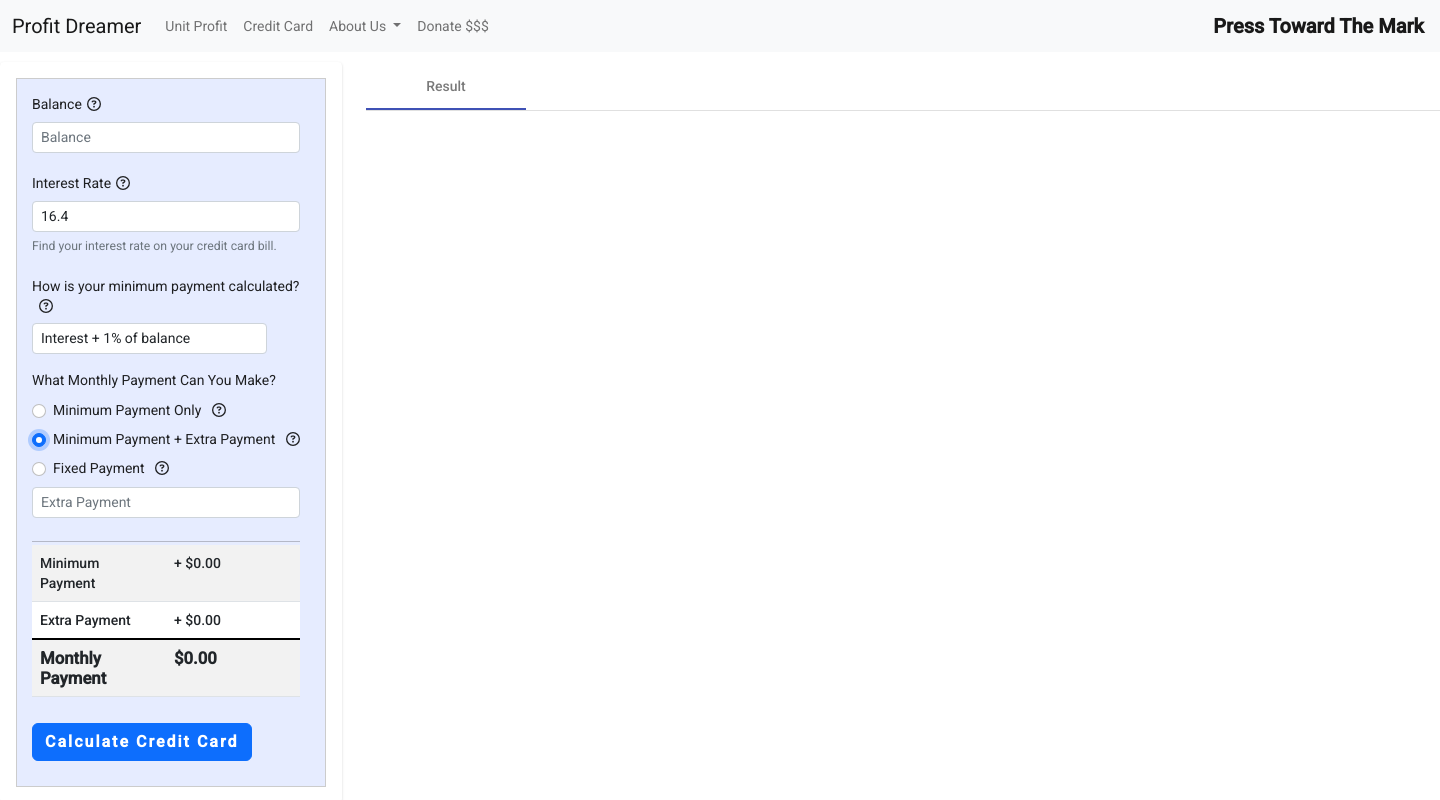
Test: credit-card-validation.cy.ts › credit card balance › blur error should be visible
Step 1. Focus the field with id "balance" → (166, 138), box [32,122,300,153]
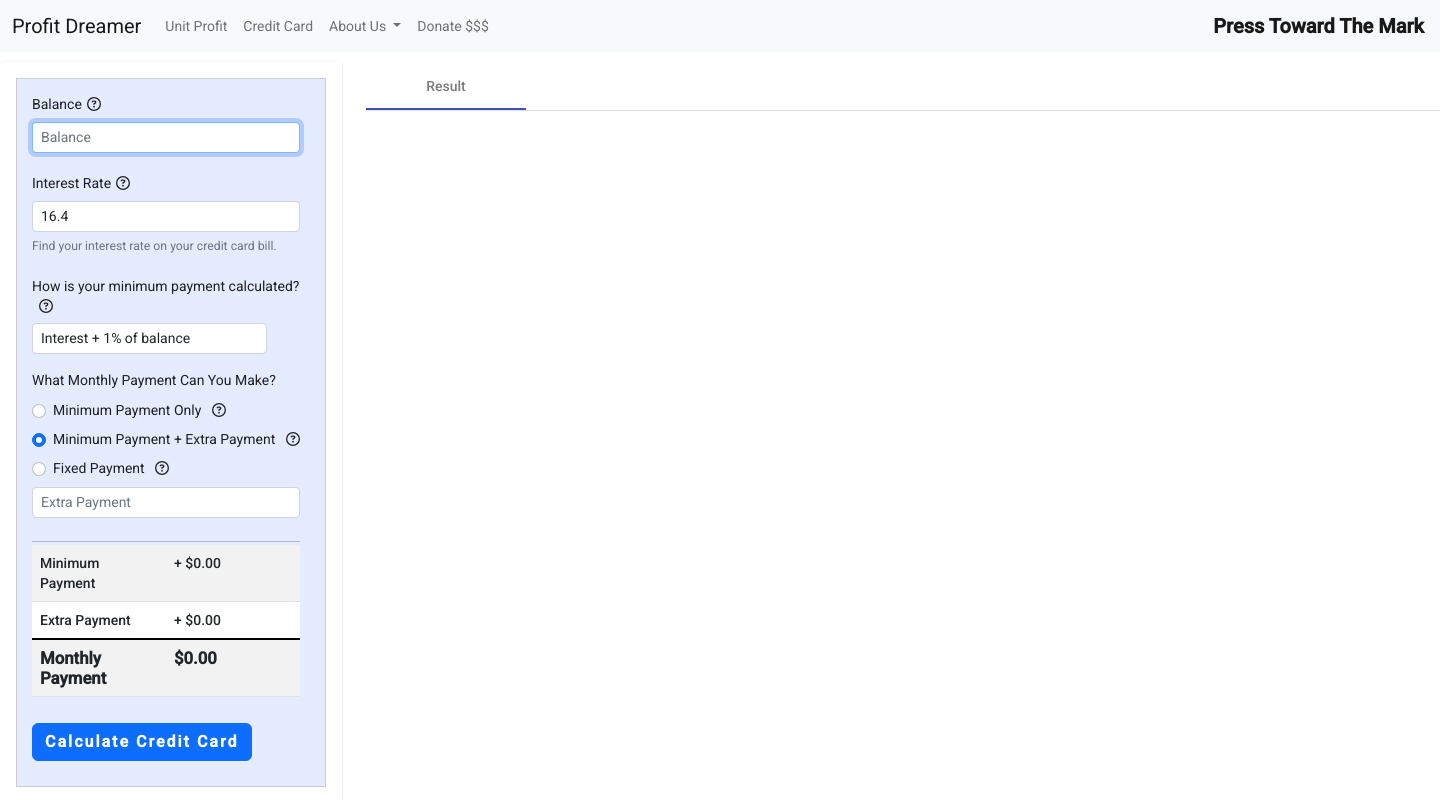
Step 2. Leave the field with id "balance", box [32,122,300,153]
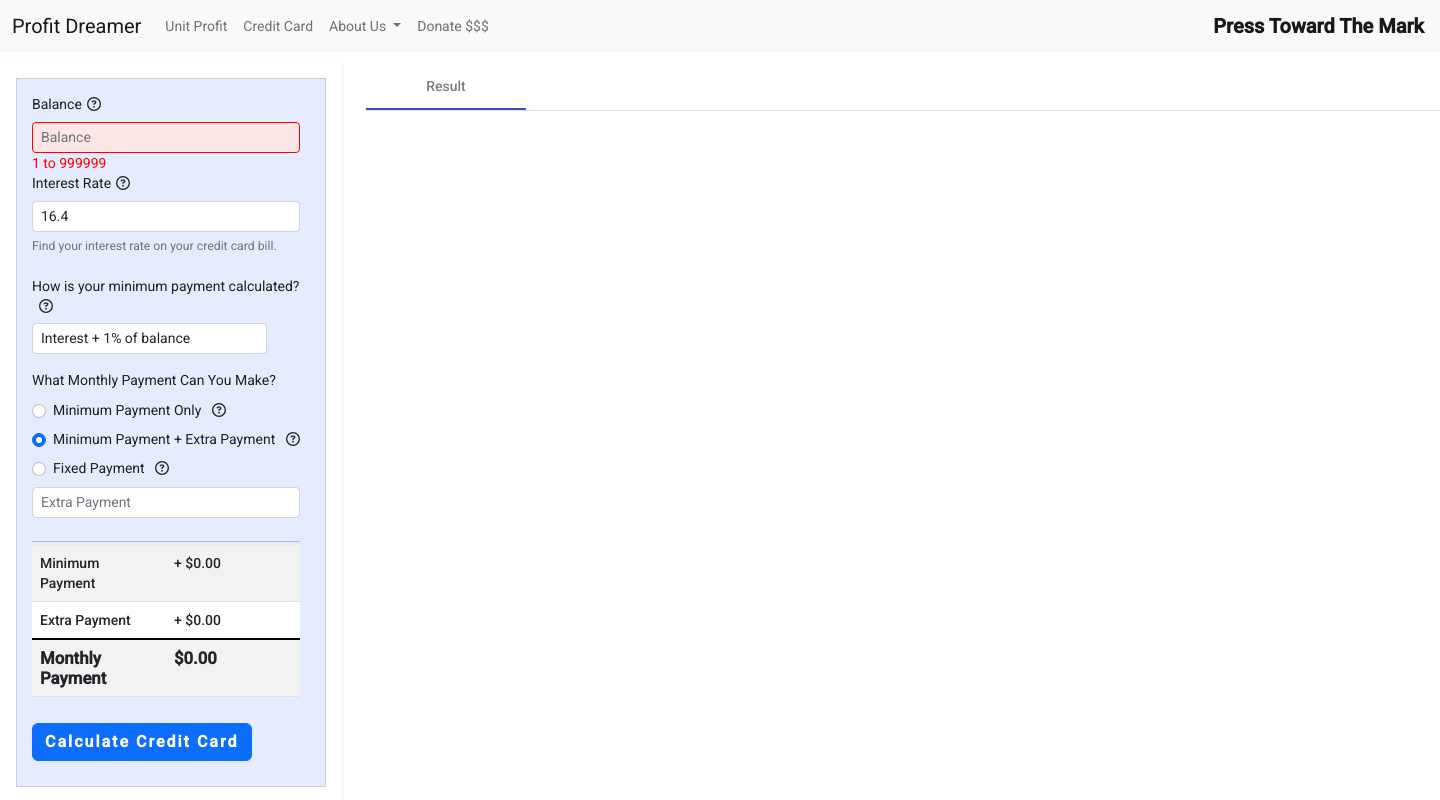
Expected: the text "1 to 999999" is shown, [32,155,106,171]
